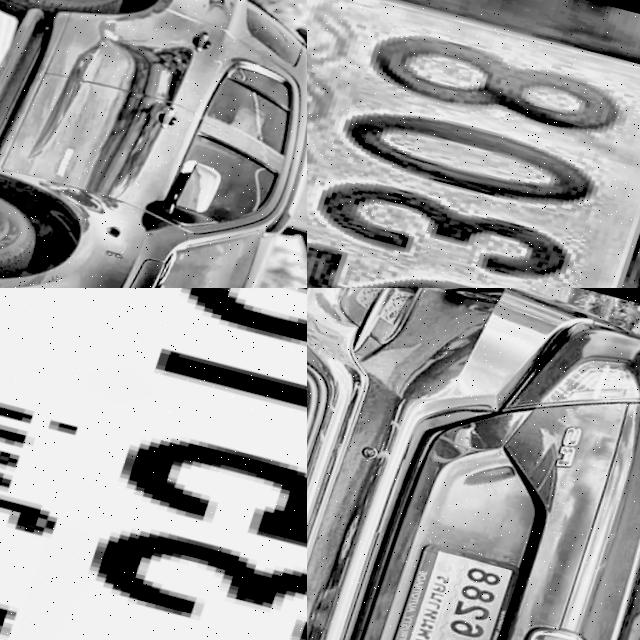license-plate: (0, 288, 307, 640), (307, 0, 640, 288), (376, 537, 534, 640)
